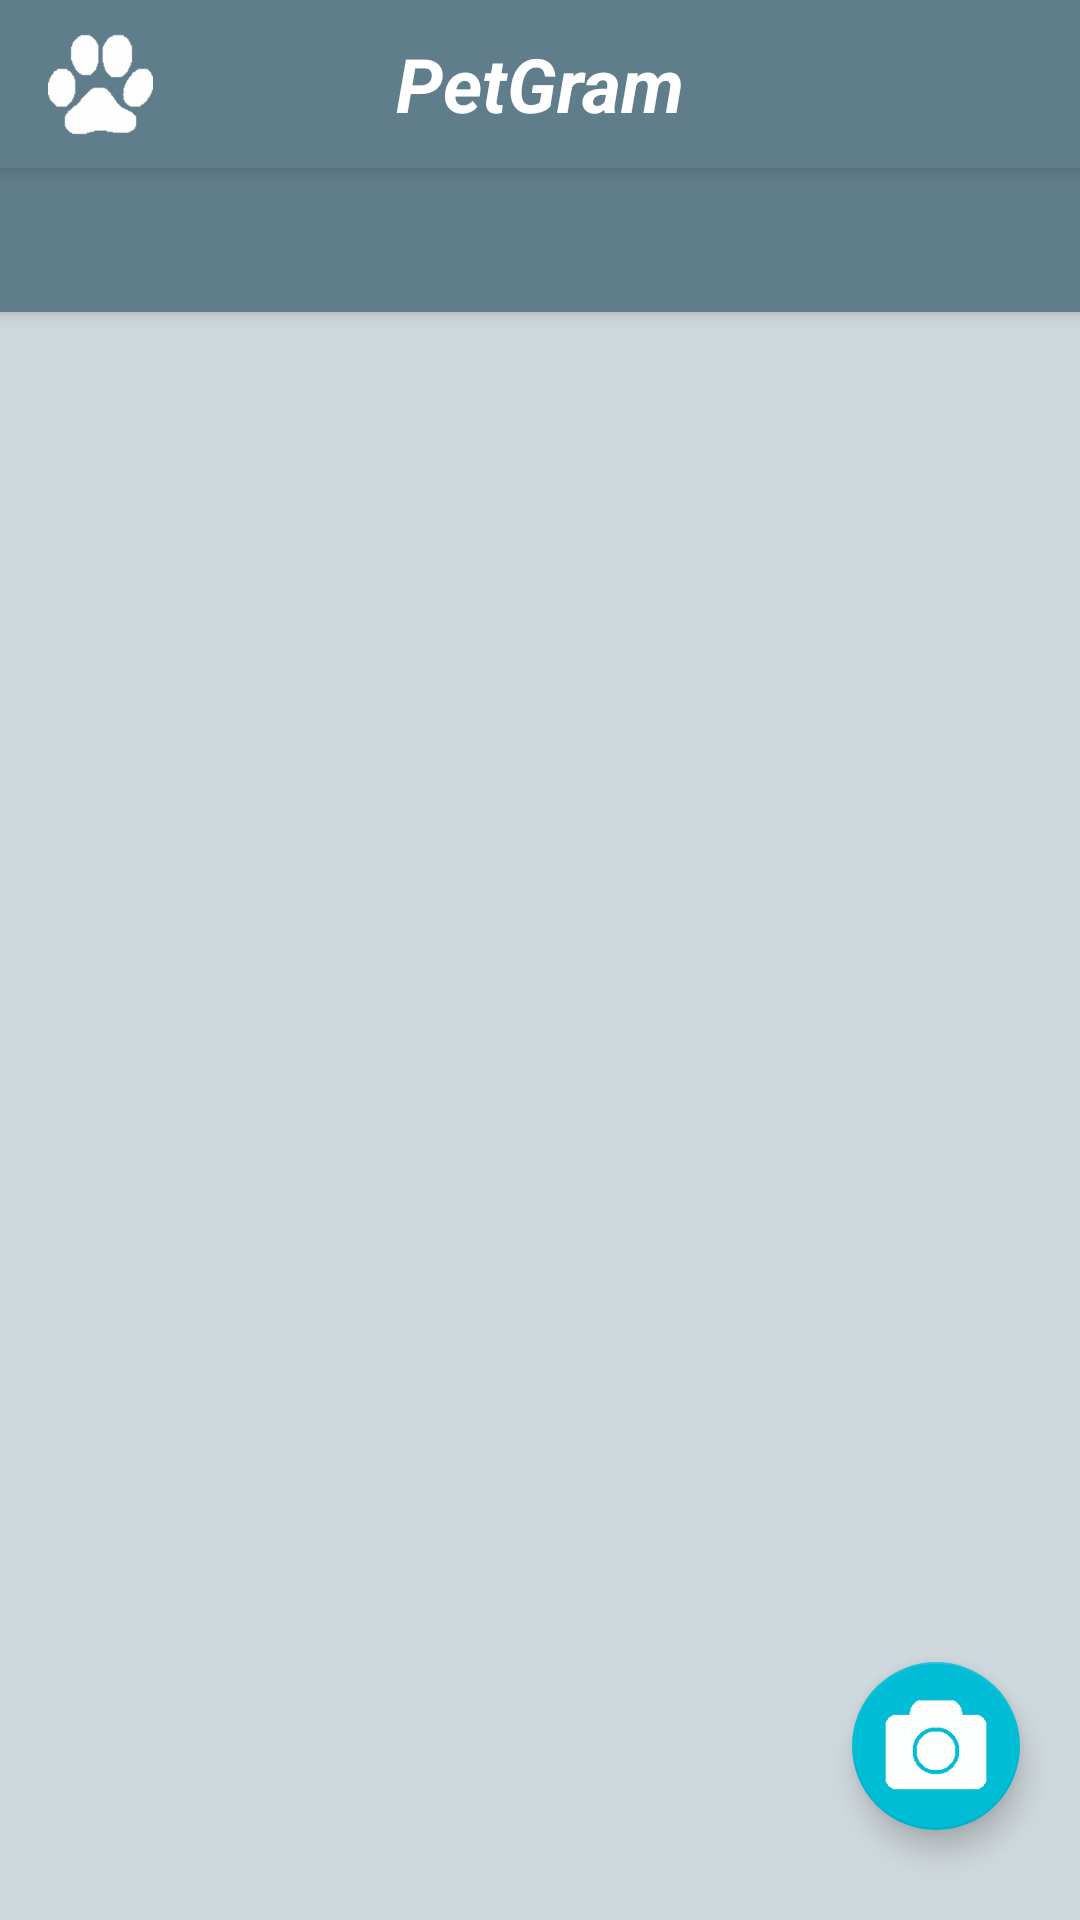

Where to tap for icons on this 1080px x 1920px app screen, as (x=x, y=y):
camara blanco: (x=936, y=1746)
incono huella blanca: (x=100, y=84)
